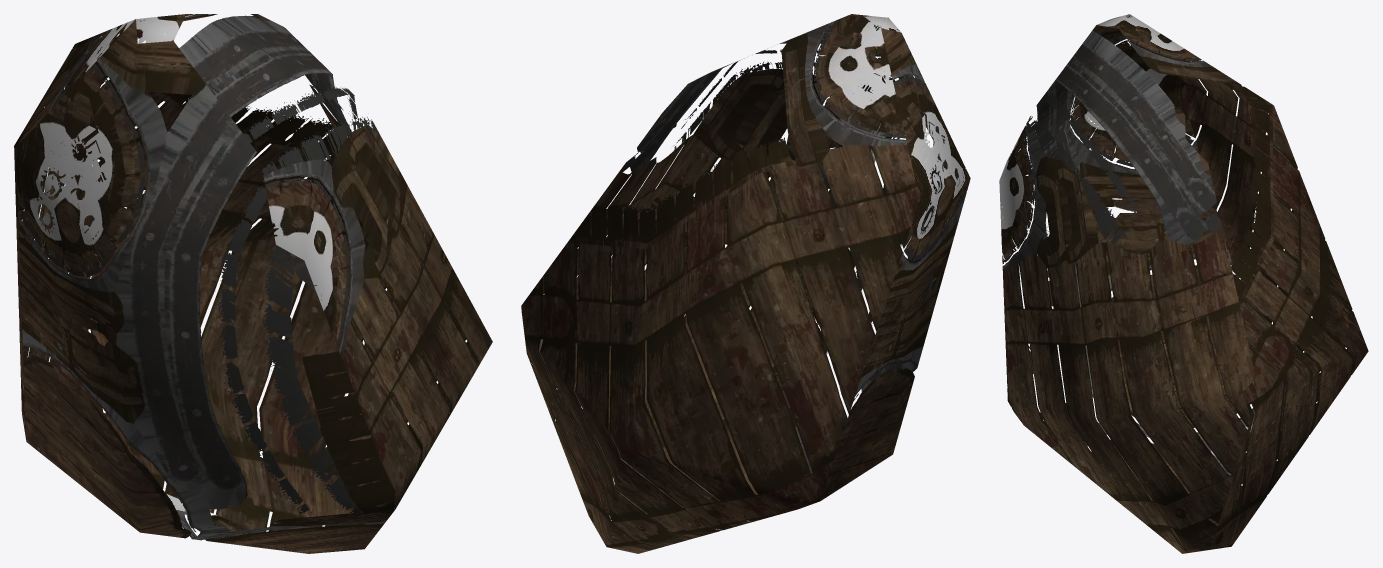
3 views of the same model, side by side, from view 1: azimuth 30°, elevation 25°; view 2: azimuth 150°, elevation 25°; view 3: azimuth 270°, elevation 25° (orthographic). The views are drawn at different scales.
Visible parts, largest first — view 1: SM_Dec_Garou_Barrel_01_LOD0; view 2: SM_Dec_Garou_Barrel_01_LOD0; view 3: SM_Dec_Garou_Barrel_01_LOD0.
Part boxes in pixels (x1=…): SM_Dec_Garou_Barrel_01_LOD0: x1=14, y1=14, x2=492, y2=553; SM_Dec_Garou_Barrel_01_LOD0: x1=521, y1=14, x2=970, y2=553; SM_Dec_Garou_Barrel_01_LOD0: x1=999, y1=14, x2=1368, y2=553.
Bounding box in the file's own units: 0.1415 × 0.2001 × 0.1473.
